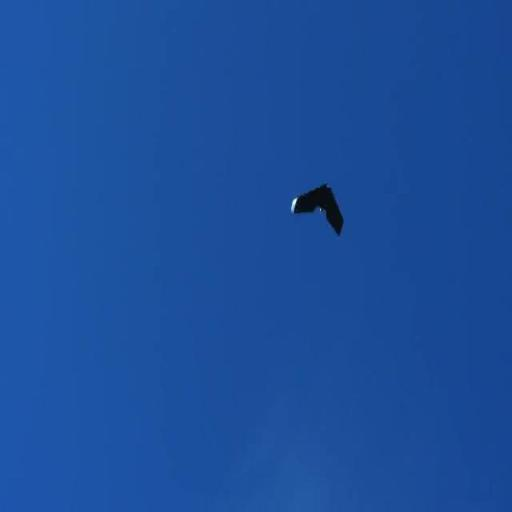uav: (288, 175, 348, 247)
